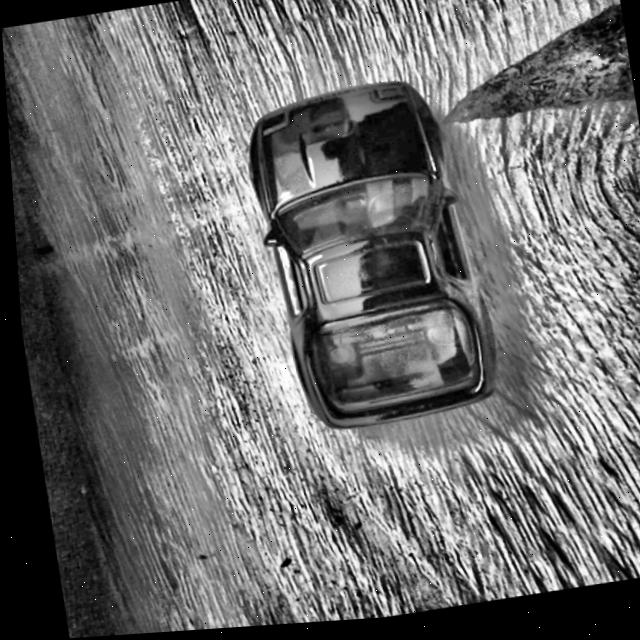car: (235, 75, 499, 443)
